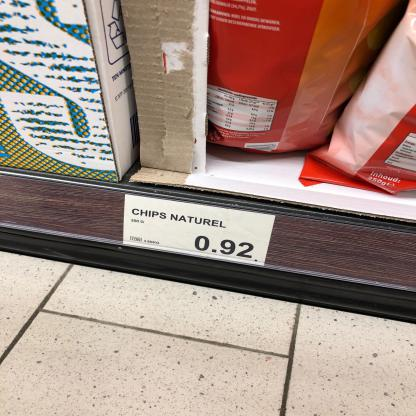prtg: (124, 195, 278, 268)
